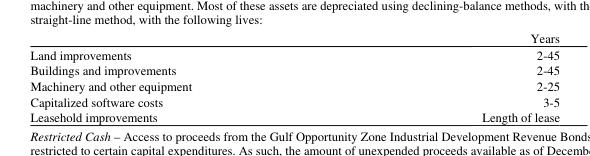table: (29, 28, 559, 124)
table column: (29, 28, 336, 124), (336, 28, 559, 124)
table column header: (29, 28, 559, 45)
table row: (29, 28, 559, 45), (29, 45, 559, 61), (29, 61, 559, 77), (29, 92, 559, 108), (29, 108, 559, 124), (29, 77, 559, 92)
